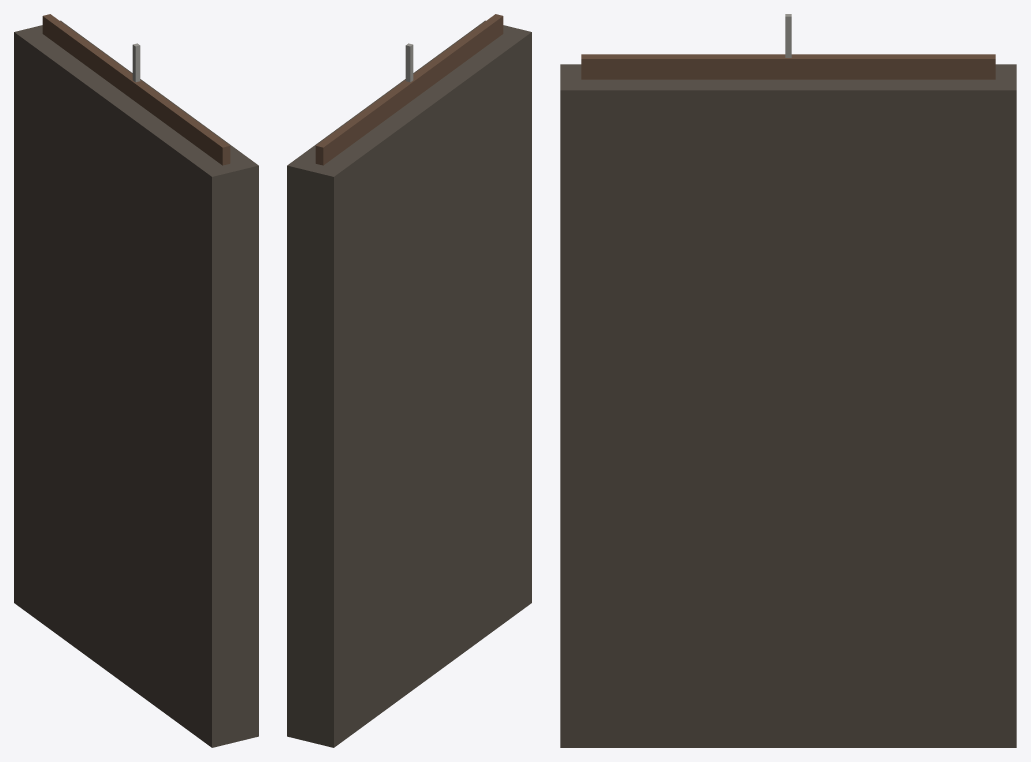
Rendered from cardigan-hung.glb.
3 views of the same model, side by side, from view 1: azimuth 30°, elevation 25°; view 2: azimuth 150°, elevation 25°; view 3: azimuth 270°, elevation 25° (orthographic). The views are drawn at different scales.
Parts seen in each view (by area): view 1: fabric, wood; view 2: fabric, wood; view 3: fabric, wood.
Part boxes in pixels (left/top/right/bottom): fabric: left=14, top=20, right=258, bottom=747; wood: left=42, top=14, right=230, bottom=165; fabric: left=287, top=20, right=531, bottom=747; wood: left=315, top=14, right=503, bottom=165; fabric: left=560, top=64, right=1016, bottom=747; wood: left=581, top=54, right=995, bottom=79.
Size of the model in its own units: 0.06 by 0.766 by 0.44.
